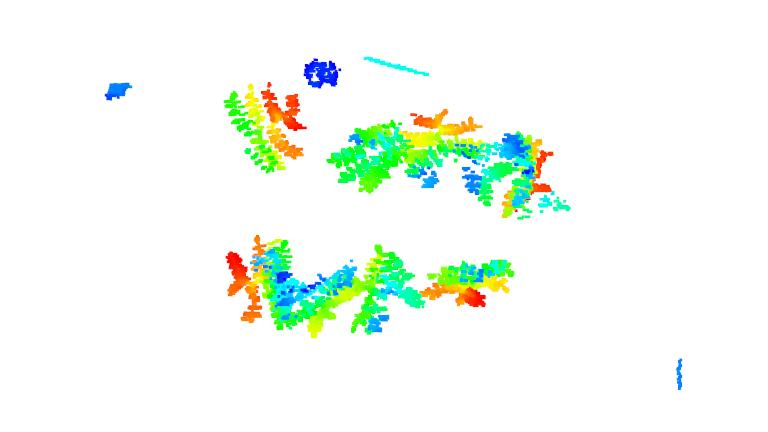chickpea: (482, 124, 572, 223), (222, 81, 310, 175), (352, 246, 432, 338), (223, 235, 296, 331), (403, 108, 485, 192), (324, 121, 412, 196), (420, 258, 521, 311), (290, 268, 367, 336)
